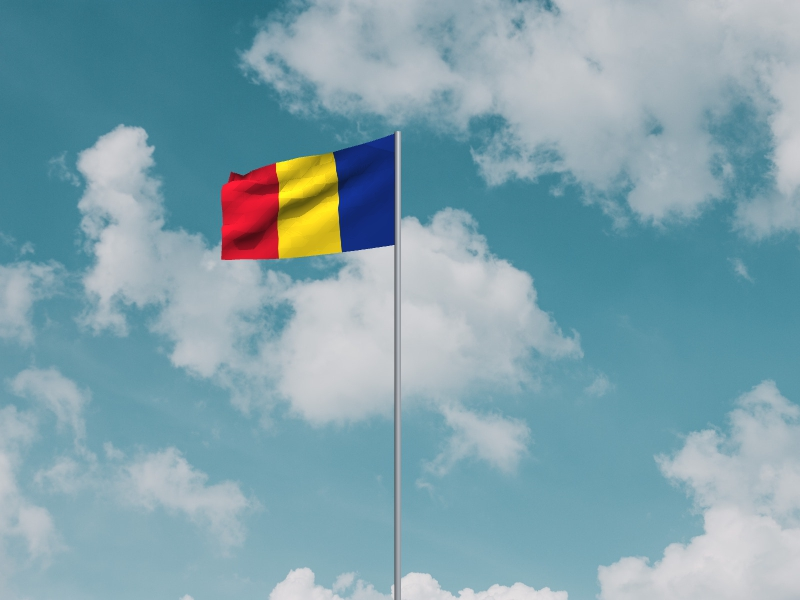ro: (221, 135, 395, 262)
